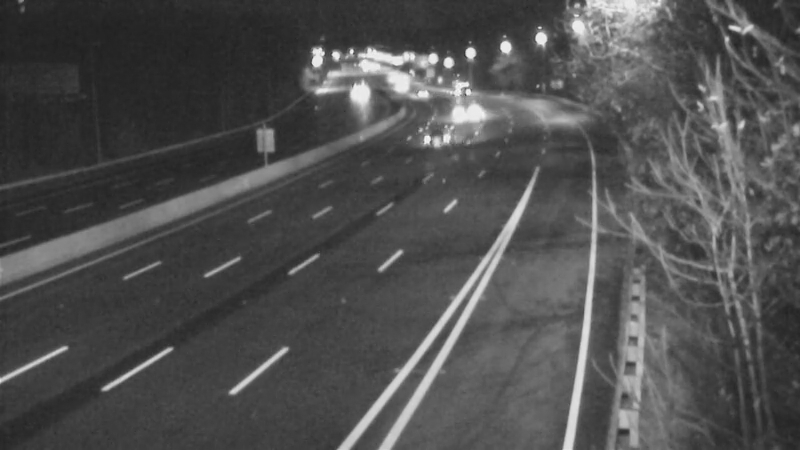vehicle: (439, 62, 489, 112), (378, 63, 428, 113), (400, 73, 450, 123), (436, 94, 486, 144), (414, 115, 464, 165), (335, 71, 385, 121)
